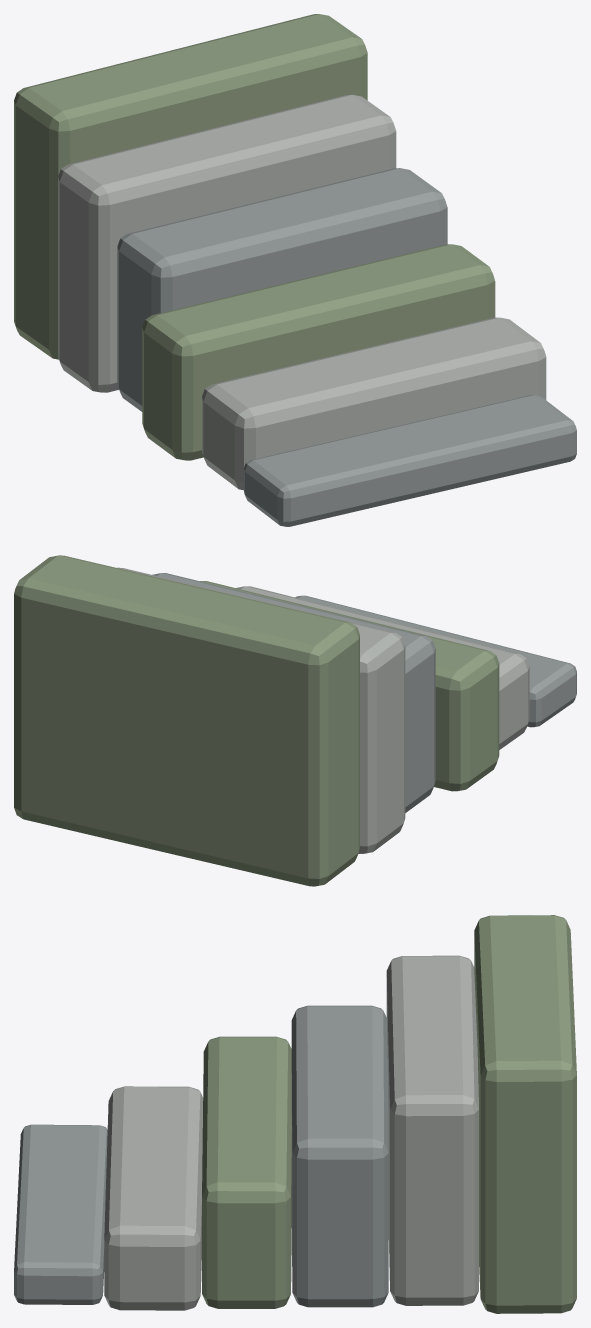
The model's file is natural_stone_steps_2x3x1p5.glb.
The picture shows the model from 3 angles, top to bottom: view 1: azimuth 30°, elevation 25°; view 2: azimuth 150°, elevation 25°; view 3: azimuth 270°, elevation 25°; orthographic projection. The views are drawn at different scales.
Parts seen in each view (by area): view 1: natural_stone_step_06, natural_stone_step_05, natural_stone_step_03, natural_stone_step_04, natural_stone_step_02, natural_stone_step_01; view 2: natural_stone_step_06, natural_stone_step_05, natural_stone_step_03, natural_stone_step_04, natural_stone_step_02, natural_stone_step_01; view 3: natural_stone_step_06, natural_stone_step_05, natural_stone_step_04, natural_stone_step_03, natural_stone_step_02, natural_stone_step_01.
Part boxes in pixels (left/top/right/bottom): natural_stone_step_06: left=14, top=14, right=367, bottom=359; natural_stone_step_05: left=58, top=94, right=396, bottom=392; natural_stone_step_03: left=142, top=244, right=495, bottom=460; natural_stone_step_04: left=117, top=168, right=447, bottom=411; natural_stone_step_02: left=202, top=317, right=546, bottom=490; natural_stone_step_01: left=244, top=395, right=576, bottom=526; natural_stone_step_06: left=14, top=555, right=359, bottom=886; natural_stone_step_05: left=117, top=567, right=405, bottom=853; natural_stone_step_03: left=200, top=581, right=499, bottom=791; natural_stone_step_04: left=152, top=573, right=435, bottom=812; natural_stone_step_02: left=236, top=586, right=529, bottom=749; natural_stone_step_01: left=295, top=595, right=576, bottom=727; natural_stone_step_06: left=474, top=915, right=576, bottom=1313; natural_stone_step_05: left=386, top=955, right=478, bottom=1305; natural_stone_step_04: left=291, top=1005, right=388, bottom=1307; natural_stone_step_03: left=202, top=1036, right=291, bottom=1308; natural_stone_step_02: left=104, top=1086, right=203, bottom=1310; natural_stone_step_01: left=14, top=1124, right=107, bottom=1304.
Size of the model in its own units: 2.08 by 1.5 by 3.04.
